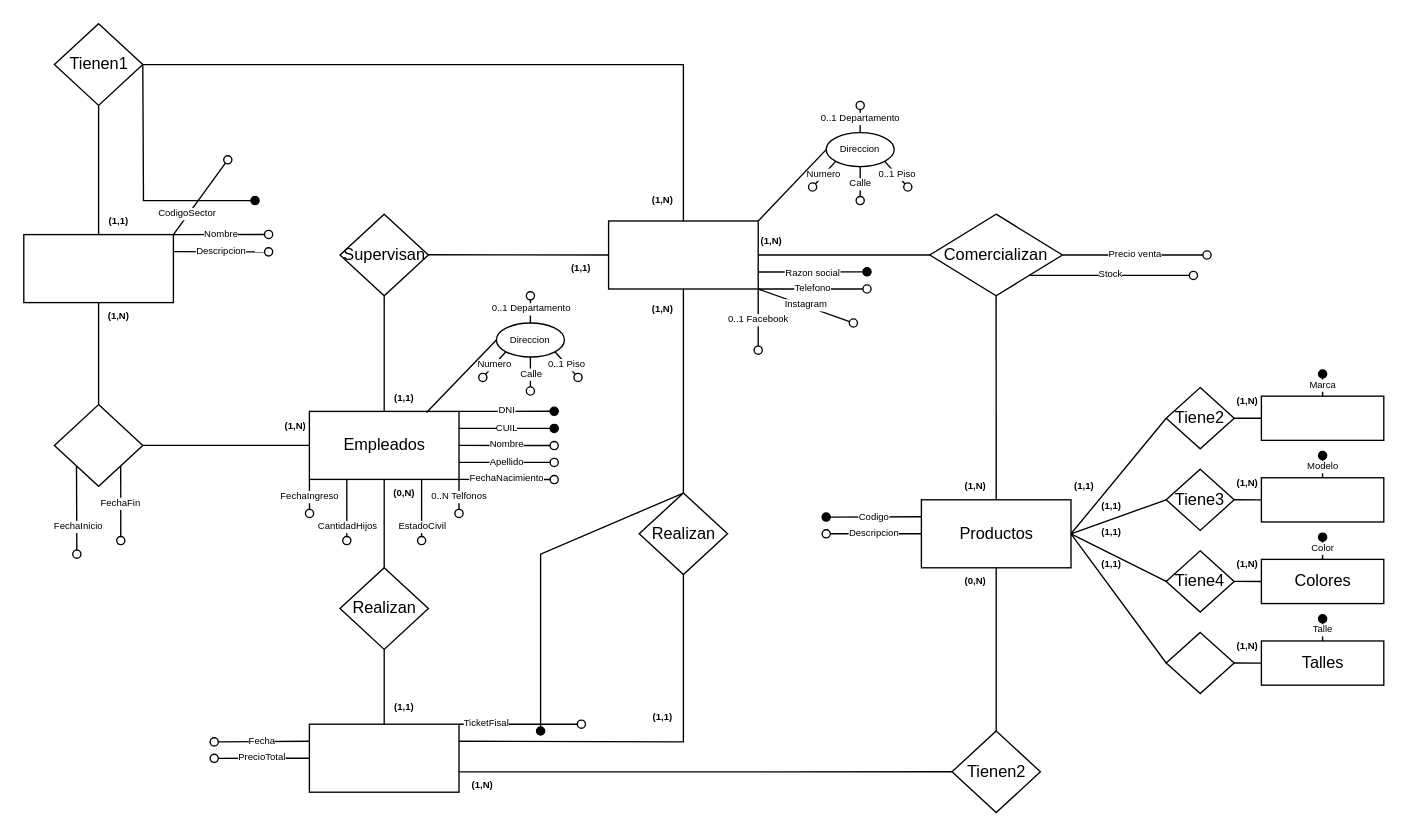
Image size: 1408x836. Some labels were removed from this diagram. Each missing label, with the centre of its shape:
"Marcas" belongs at [1322,417].
"Modelos" belongs at [1322,499].
"Sectores" belongs at [97,268].
"Tiendas" belongs at [682,254].
"Tiene5" belongs at [1199,662].
"Trabajan" belongs at [98,444].
"Ventas" belongs at [383,757].
